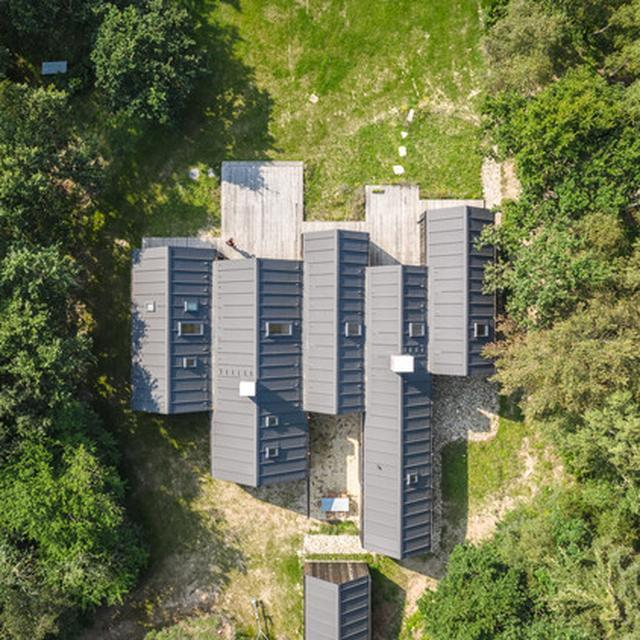building: (134, 192, 498, 559), (291, 538, 400, 640)
